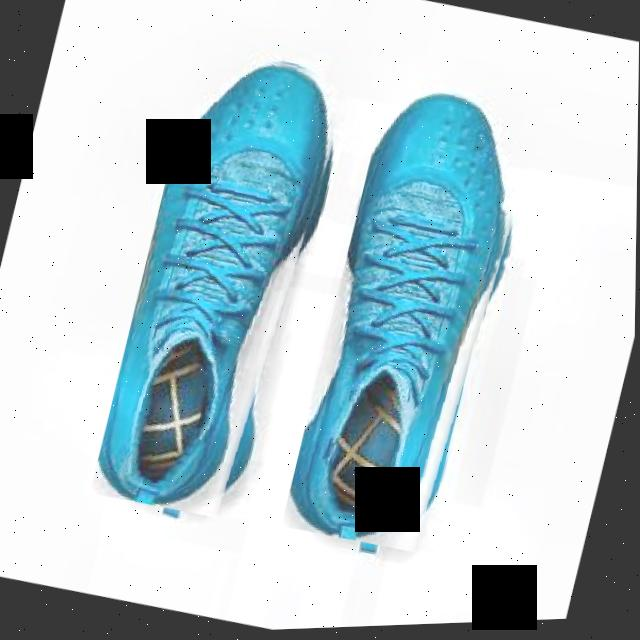shoe: (90, 40, 355, 529), (282, 79, 545, 564)
